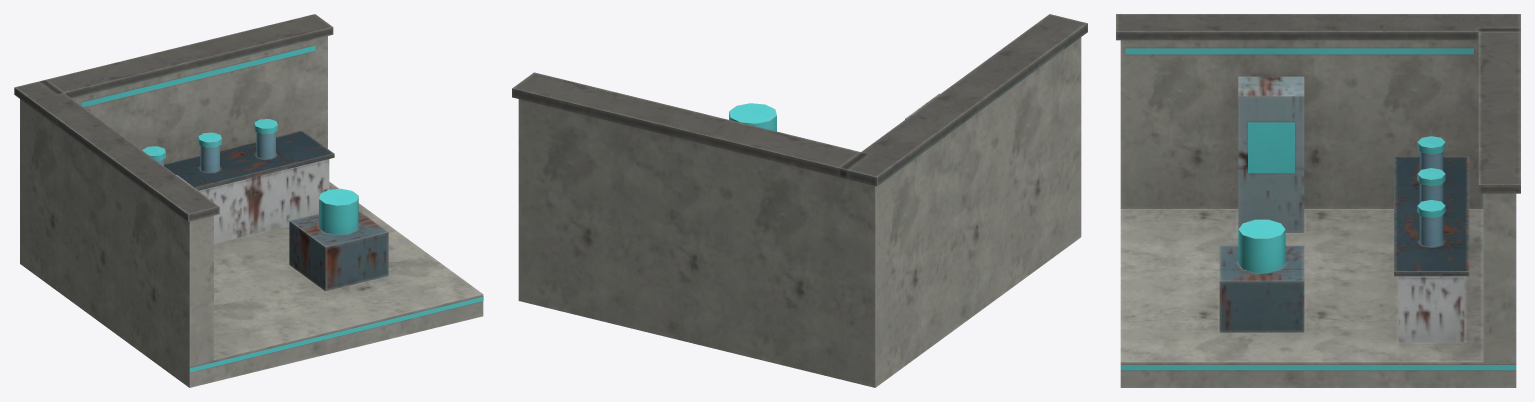
Rendered from research_institute.glb.
3 views of the same model, side by side, from view 1: azimuth 30°, elevation 25°; view 2: azimuth 150°, elevation 25°; view 3: azimuth 270°, elevation 25° (orthographic). The views are drawn at different scales.
Visible parts, largest first — view 1: te_research_institute; view 2: te_research_institute; view 3: te_research_institute.
Boxes of the visible parts, bbox=[...] form: te_research_institute: bbox=[14, 14, 483, 387]; te_research_institute: bbox=[512, 14, 1087, 387]; te_research_institute: bbox=[1116, 14, 1520, 387].
Size of the model in its own units: 0.86 by 0.48 by 0.86.
1 material, 1 textured.
